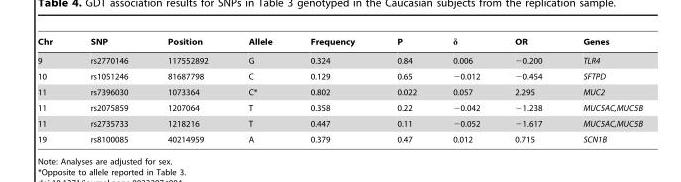table: (37, 37, 642, 143)
table column: (290, 37, 375, 143), (561, 37, 642, 143), (147, 37, 227, 143), (70, 37, 147, 143), (496, 37, 561, 143), (227, 37, 290, 143), (434, 37, 496, 143), (375, 37, 434, 143), (37, 37, 70, 143)
table column header: (37, 37, 642, 50)
table row: (37, 50, 642, 68), (37, 68, 642, 84), (37, 99, 642, 115), (37, 115, 642, 131), (37, 84, 642, 99), (37, 37, 642, 50), (37, 131, 642, 143)
